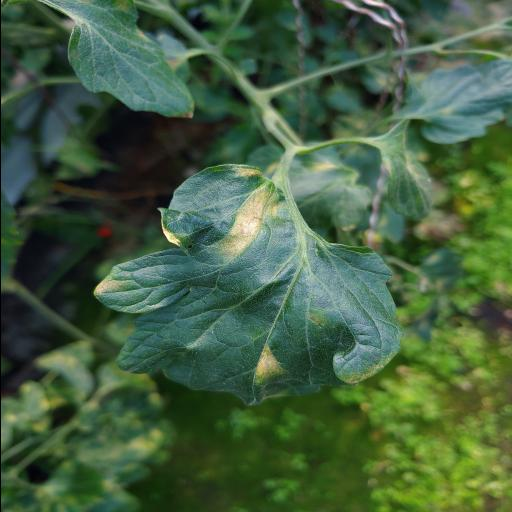Leaf Mold: (93, 164, 403, 404)
